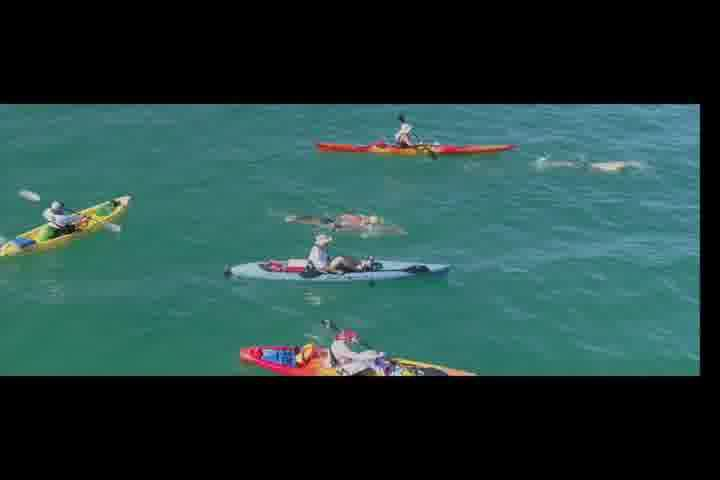human: (287, 210, 405, 238)
